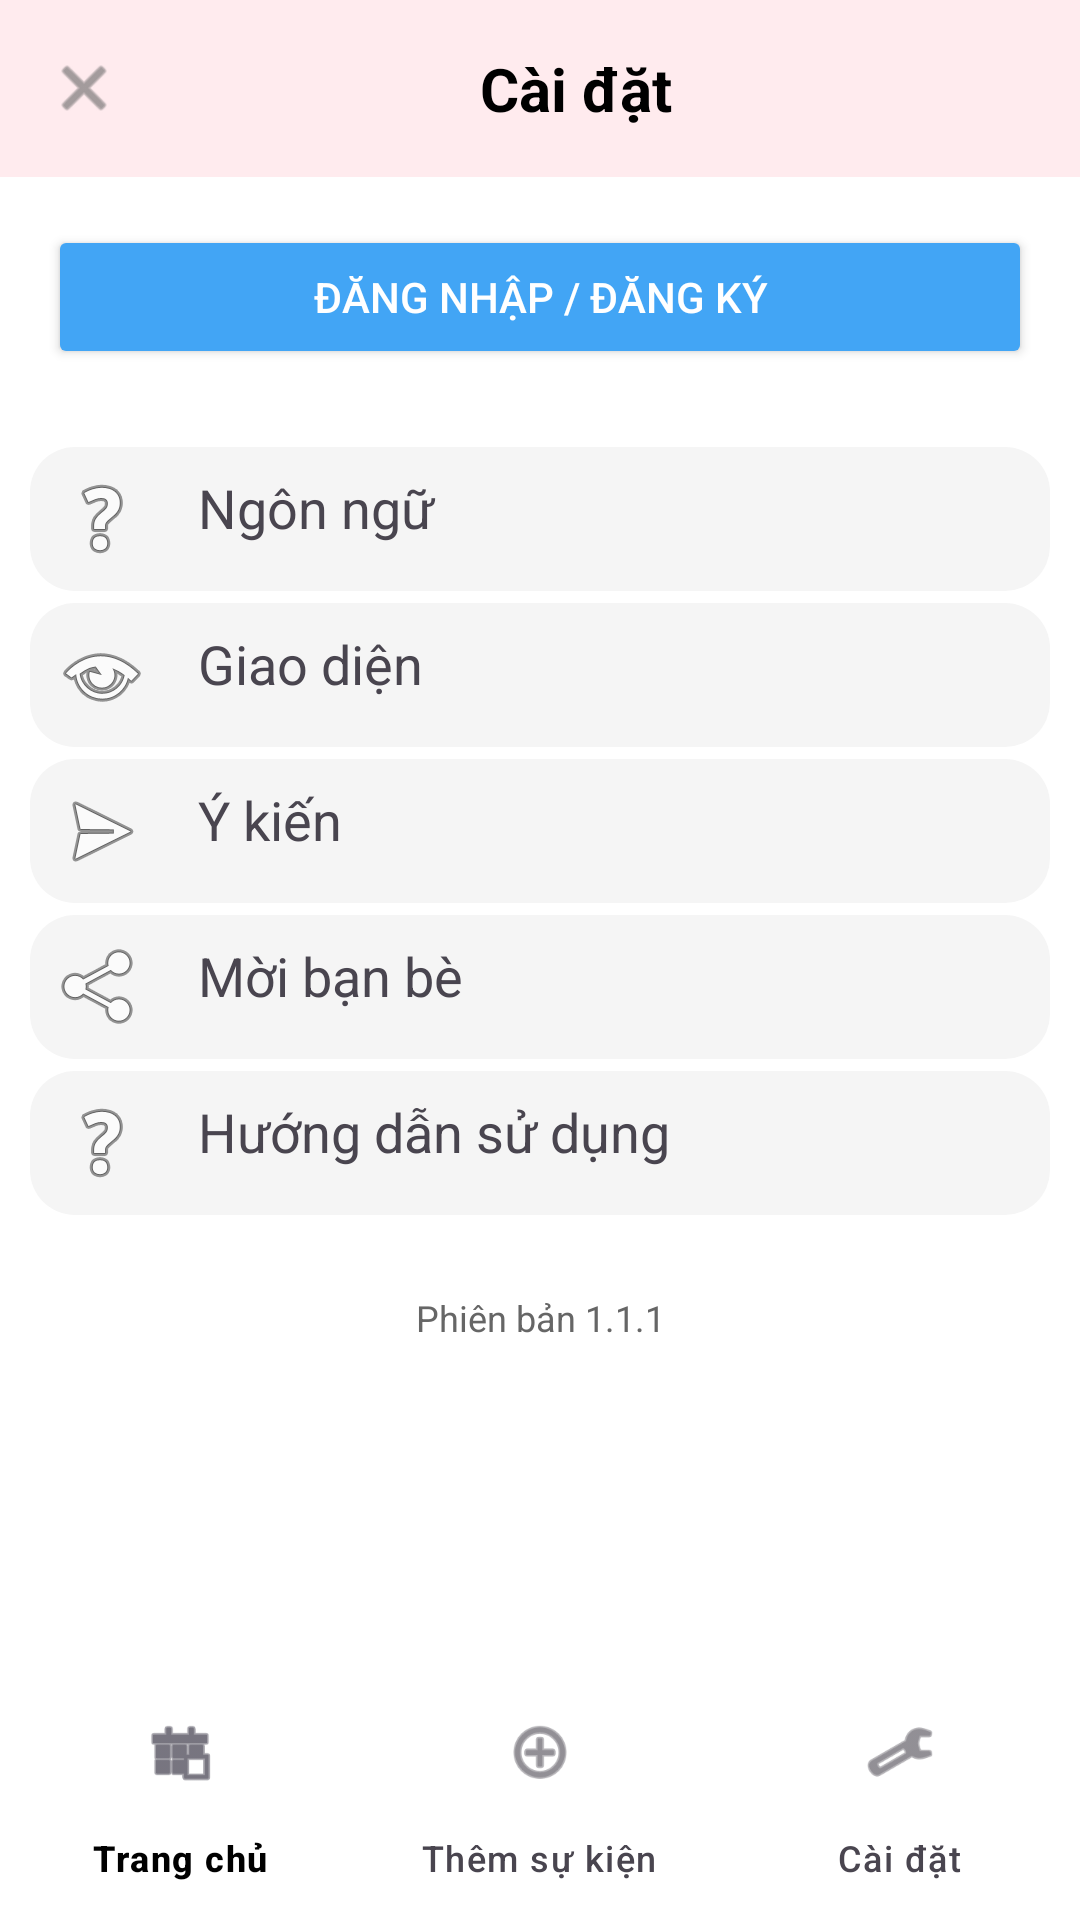

Screen size 1080px×1920px. Icon name, then its box in pixels as bbox=[x1, y1, x2, y2]:
Close: bbox=[62, 66, 106, 110]
